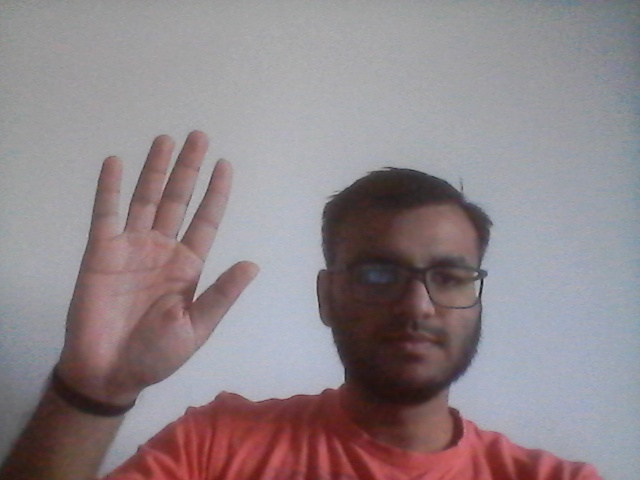Hello: (61, 119, 263, 390)
